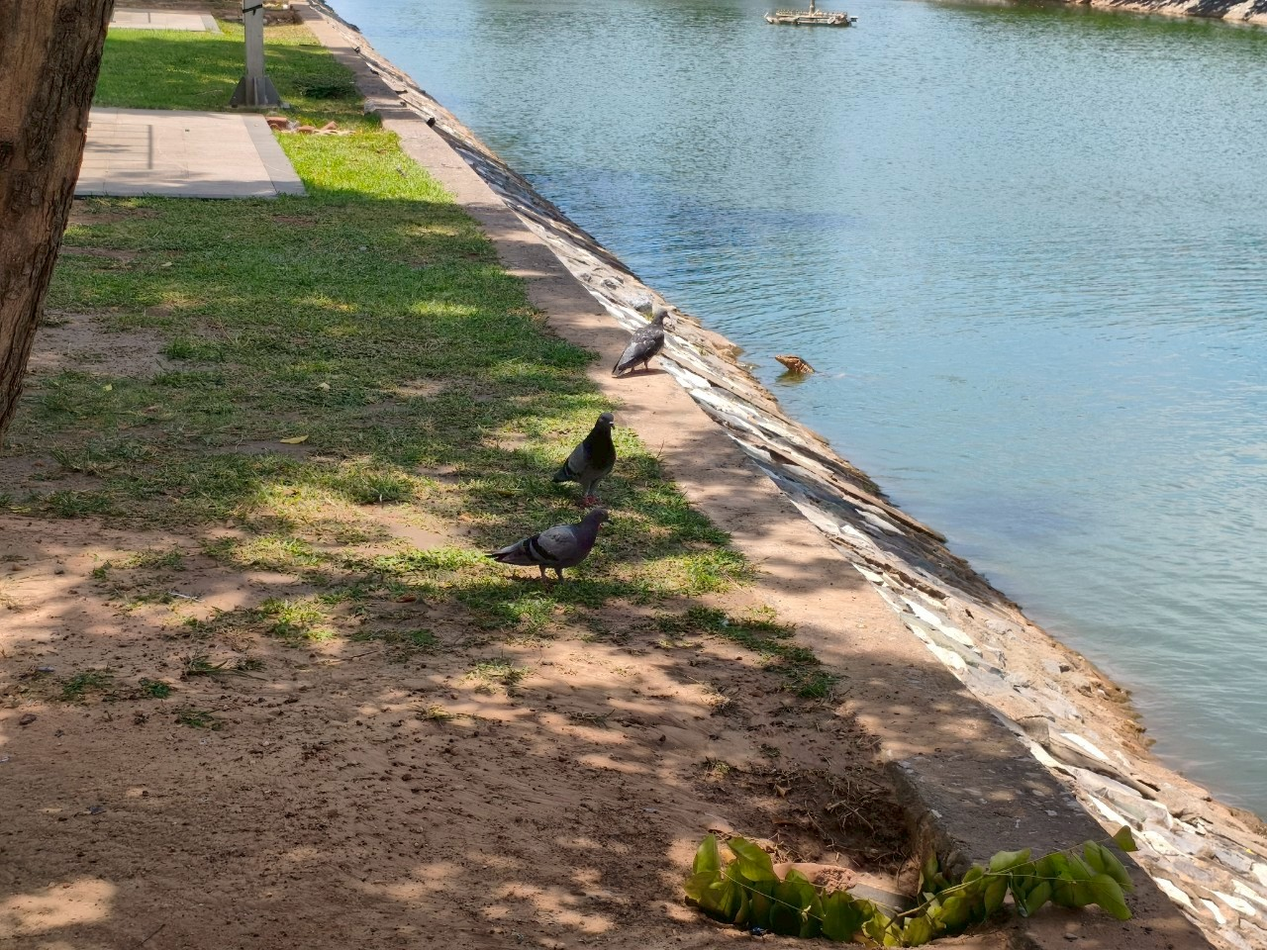Pigeon: (491, 508, 608, 579), (554, 414, 616, 505), (614, 310, 665, 376)
